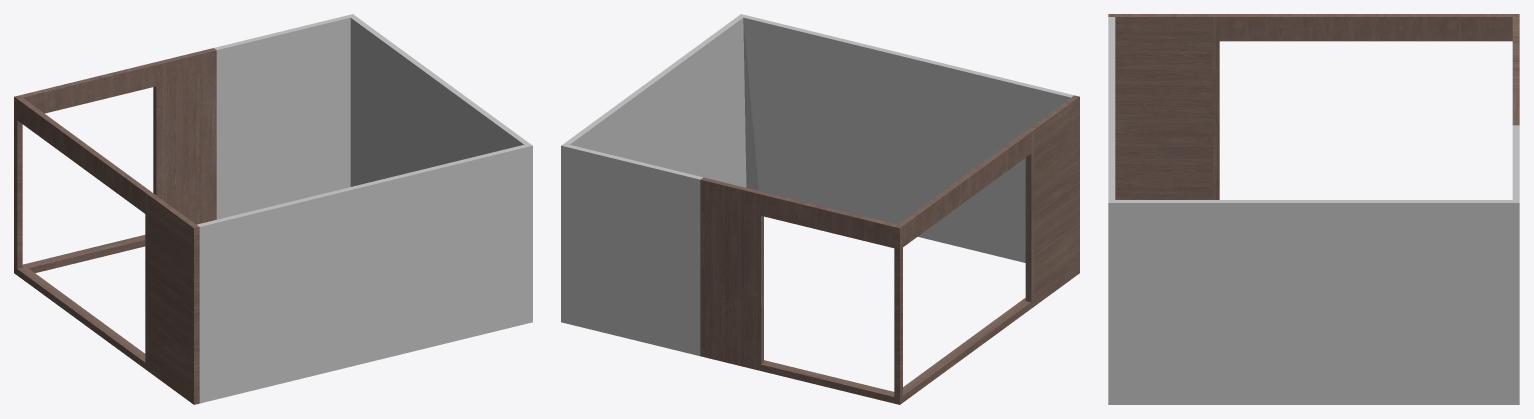
File: ST-wall.fbx
The picture shows the model from 3 angles, left to right: view 1: azimuth 30°, elevation 25°; view 2: azimuth 150°, elevation 25°; view 3: azimuth 270°, elevation 25°; orthographic projection. The views are drawn at different scales.
Visible parts, largest first — view 1: ST-wall; view 2: ST-wall; view 3: ST-wall.
Boxes of the visible parts, x1=… form: ST-wall: x1=14, y1=14, x2=532, y2=404; ST-wall: x1=561, y1=14, x2=1079, y2=404; ST-wall: x1=1108, y1=14, x2=1519, y2=404.
Size of the model in its own units: 7.46 by 6.87 by 3.72.
